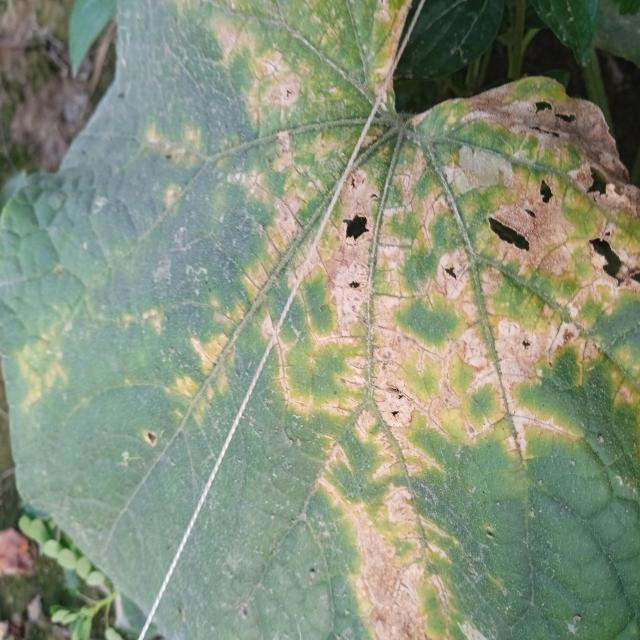cucumber_anthracnose: (110, 91, 640, 601)
